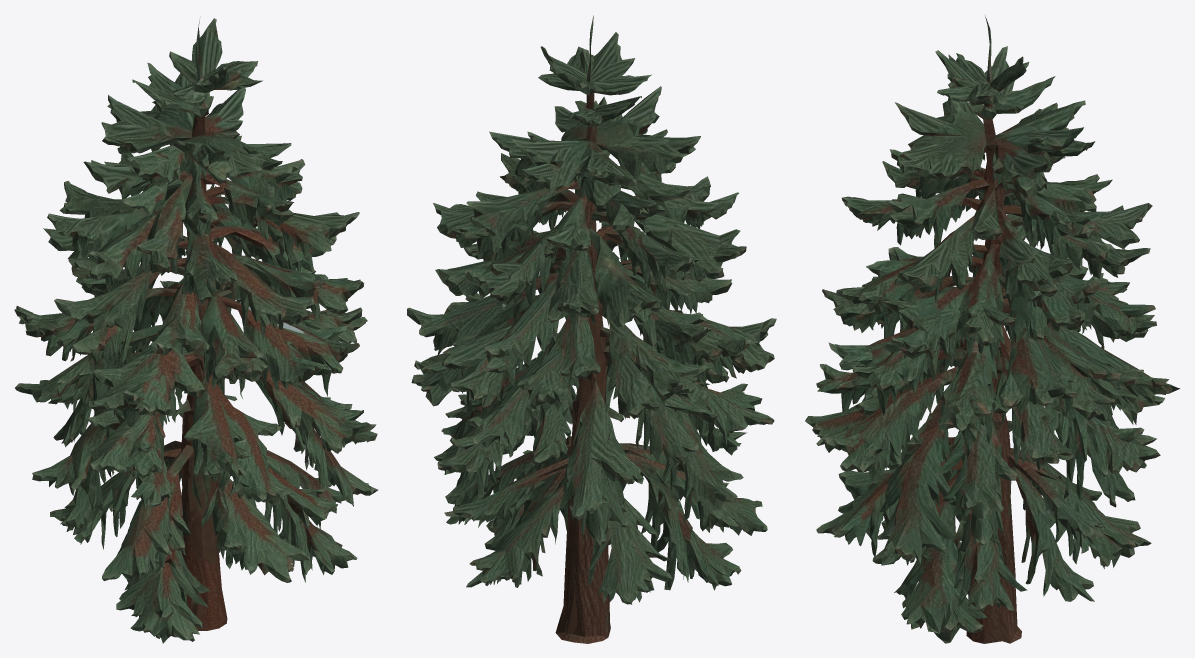
File: spruce_detailed.glb
3 views of the same model, side by side, from view 1: azimuth 30°, elevation 25°; view 2: azimuth 150°, elevation 25°; view 3: azimuth 270°, elevation 25° (orthographic).
Size of the model in its own units: 0.9426 by 1.76 by 0.9723.
1 material, 1 textured.
